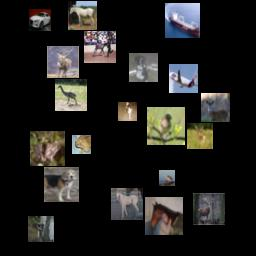airplane: (169, 64, 198, 93)
automobile: (29, 9, 51, 31)
bird: (147, 107, 185, 145), (55, 79, 87, 111), (28, 216, 54, 242), (159, 170, 175, 186)
cat: (118, 102, 137, 121)
deer: (193, 193, 225, 225), (47, 46, 79, 78), (201, 93, 230, 122), (187, 123, 213, 149)
dog: (44, 167, 79, 202), (129, 53, 158, 82)
frog: (30, 131, 65, 166), (72, 135, 91, 154)
ship: (165, 3, 200, 38)
